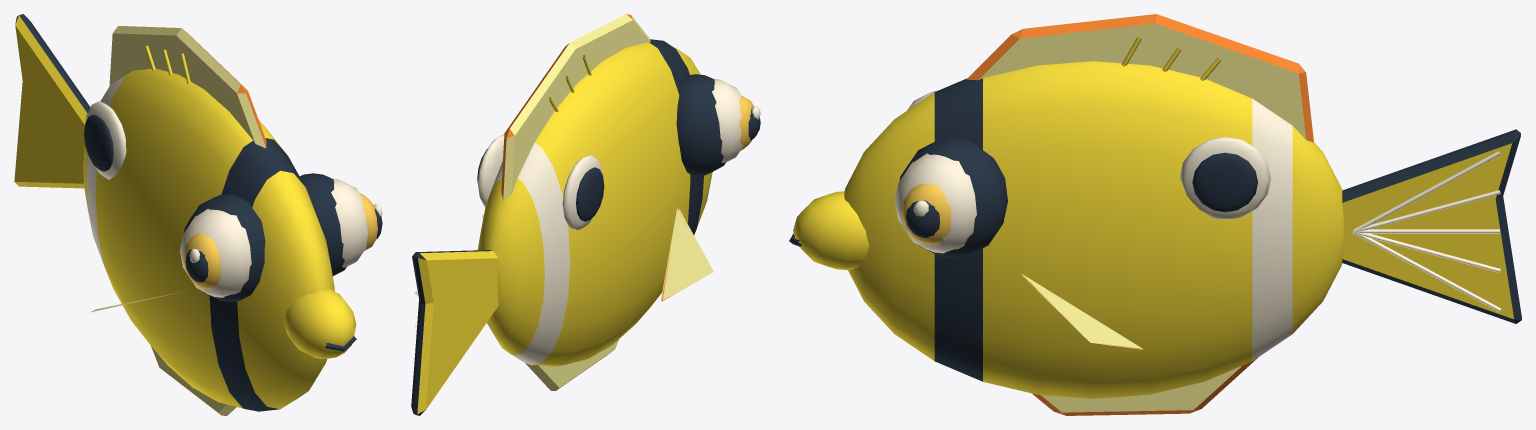
Rendered from butterflyfish-low.glb.
3 renders of one model, left to right at view 1: azimuth 30°, elevation 25°; view 2: azimuth 150°, elevation 25°; view 3: azimuth 270°, elevation 25°, orthographic. The views are drawn at different scales.
Visible parts, largest first — view 1: BodyMesh, TailMesh; view 2: BodyMesh, TailMesh; view 3: BodyMesh, TailMesh.
Part boxes in pixels (x1,y1,x2,y2): BodyMesh: (83, 26, 382, 415); TailMesh: (14, 14, 90, 188); BodyMesh: (477, 14, 760, 390); TailMesh: (411, 250, 498, 415); BodyMesh: (789, 14, 1344, 415); TailMesh: (1342, 129, 1521, 323).
Bounding box in the file's own units: 1.11 × 1.55 × 2.56.
